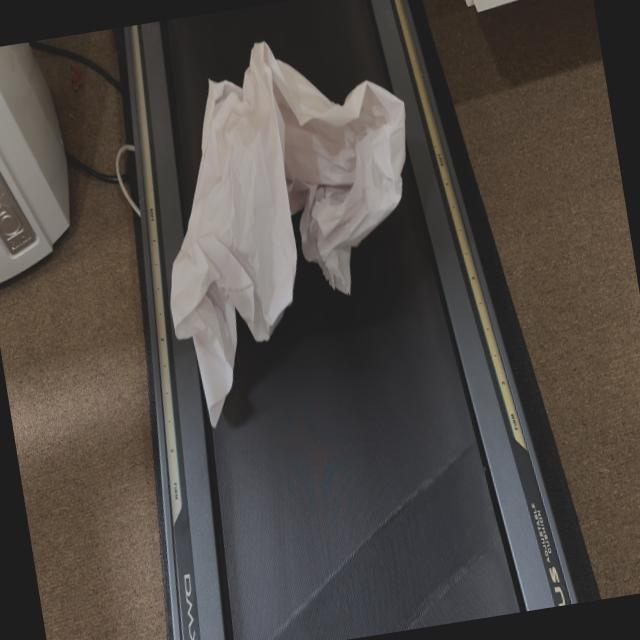Trash: (165, 50, 438, 410)
